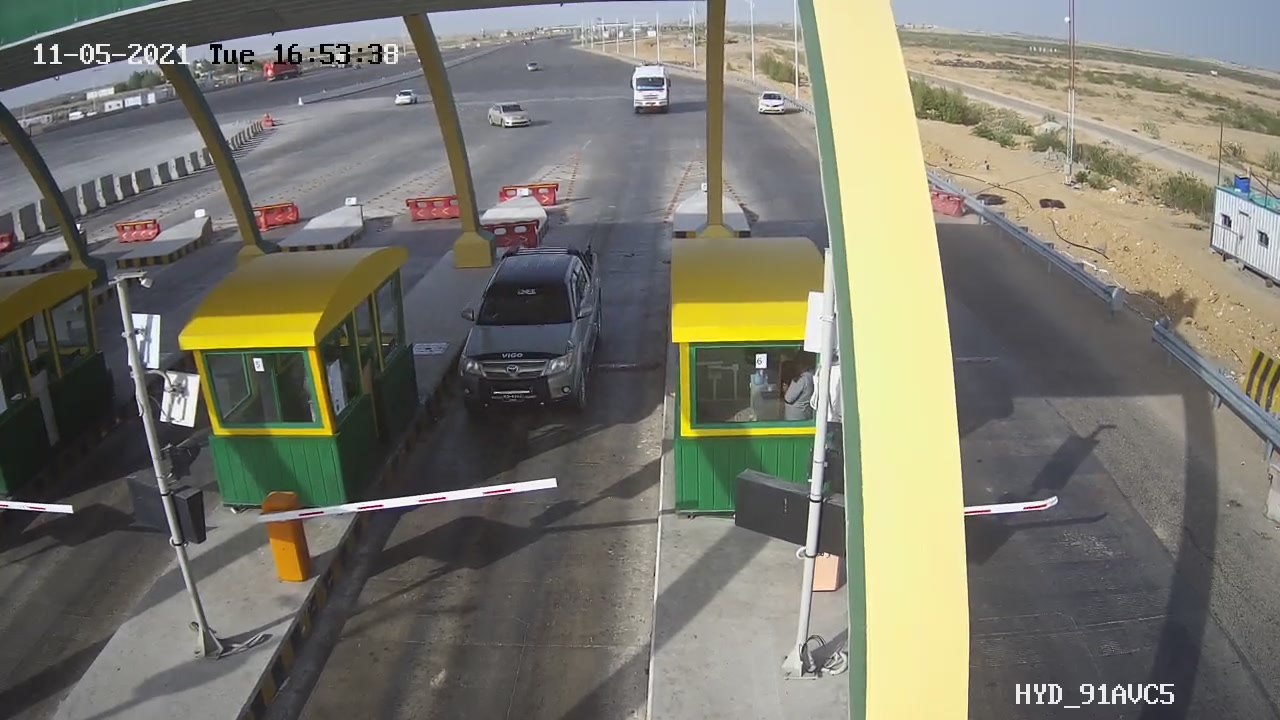F1: (439, 233, 626, 434)
